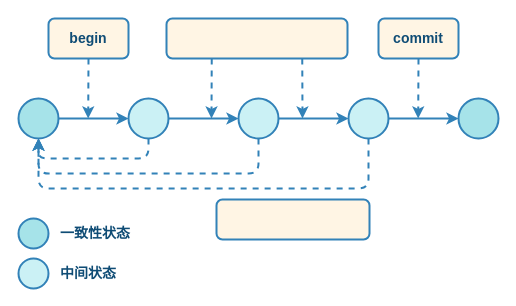
This 516x306 diagram has some shape labels left out. The shapes that lost their labels are listed below. From the top down, each one's box as (x1, y1, x2, y2) in pixels, then its label:
(165, 17, 348, 59): insert, update, delete
(215, 198, 370, 240): rollback / error
